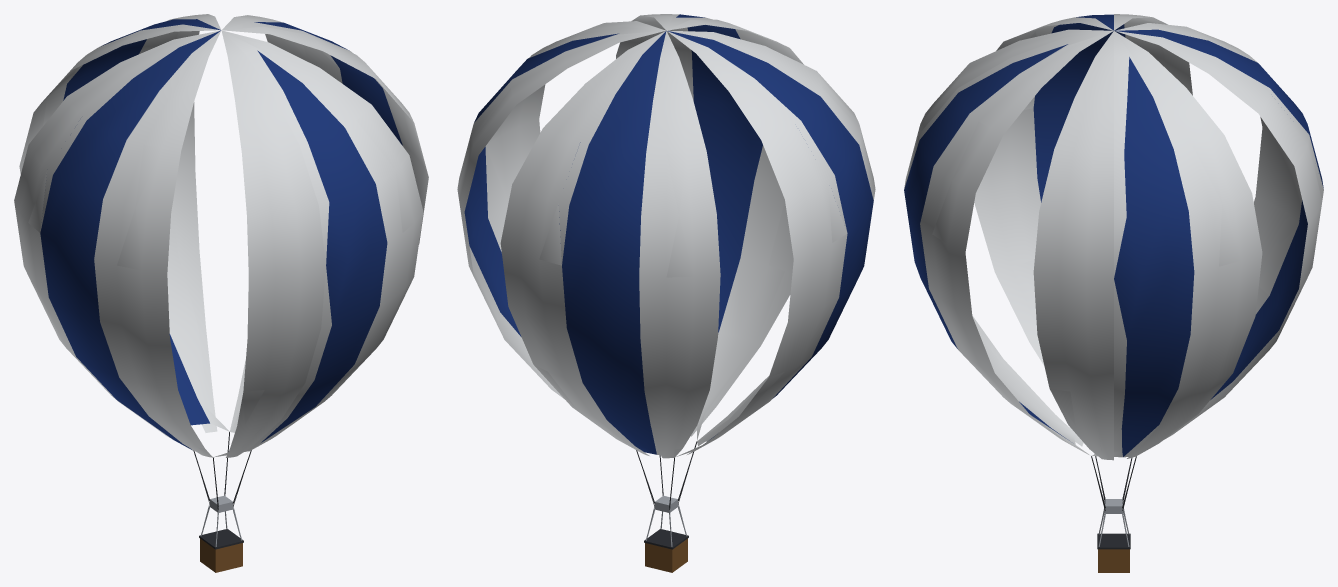
Rendered from lat_balloon.dae.
3 views of the same model, side by side, from view 1: azimuth 30°, elevation 25°; view 2: azimuth 150°, elevation 25°; view 3: azimuth 270°, elevation 25° (orthographic).
Parts seen in each view (by area): view 1: lat_balloon150, lat_balloon1; view 2: lat_balloon150, lat_balloon1; view 3: lat_balloon150, lat_balloon1.
Part boxes in pixels (x1,y1,x2,y2): lat_balloon150: (14, 14, 428, 572); lat_balloon1: (28, 19, 414, 512); lat_balloon150: (457, 14, 875, 572); lat_balloon1: (457, 14, 875, 512); lat_balloon150: (904, 14, 1322, 572); lat_balloon1: (904, 14, 1323, 513).
Bounding box in the file's own units: 17.2 × 17.2 × 24.2.
